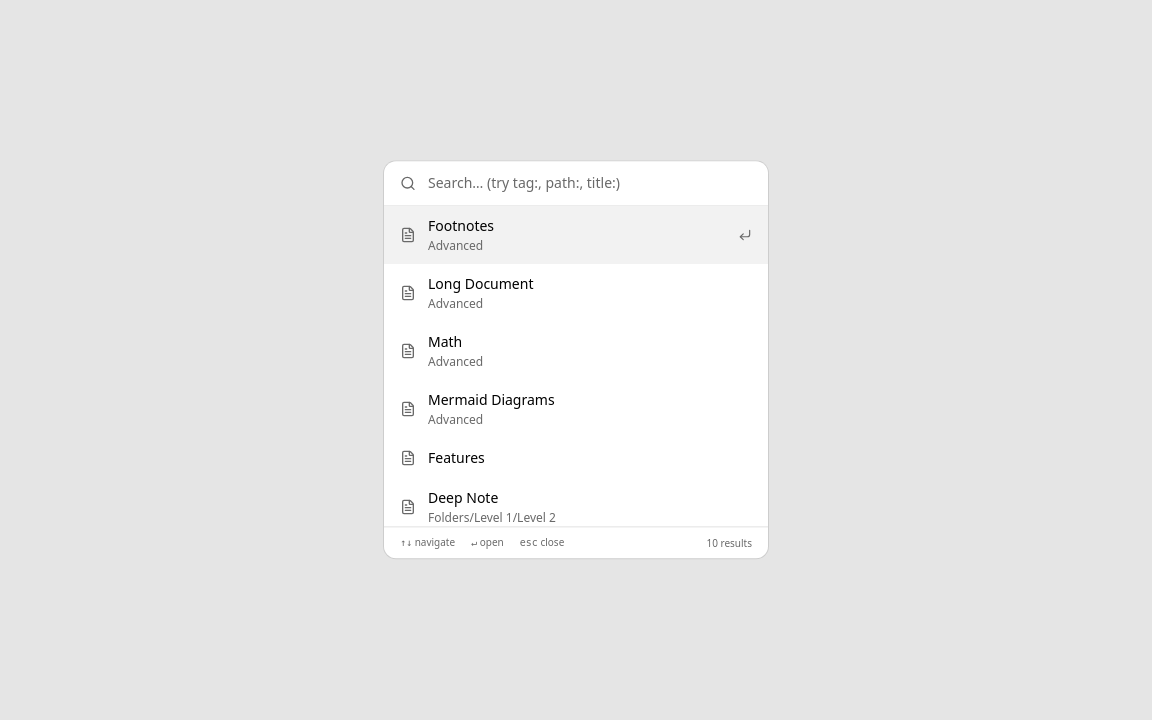
Test: SearchDialog › falls back to full-text search over plainText
// phrase that only appears in Hub Note's body, not in any title
In the field with placeholder "Search… (try tag:, path:, title:)": coordinates (590, 183) [428,173,752,193], type "degree centrality"
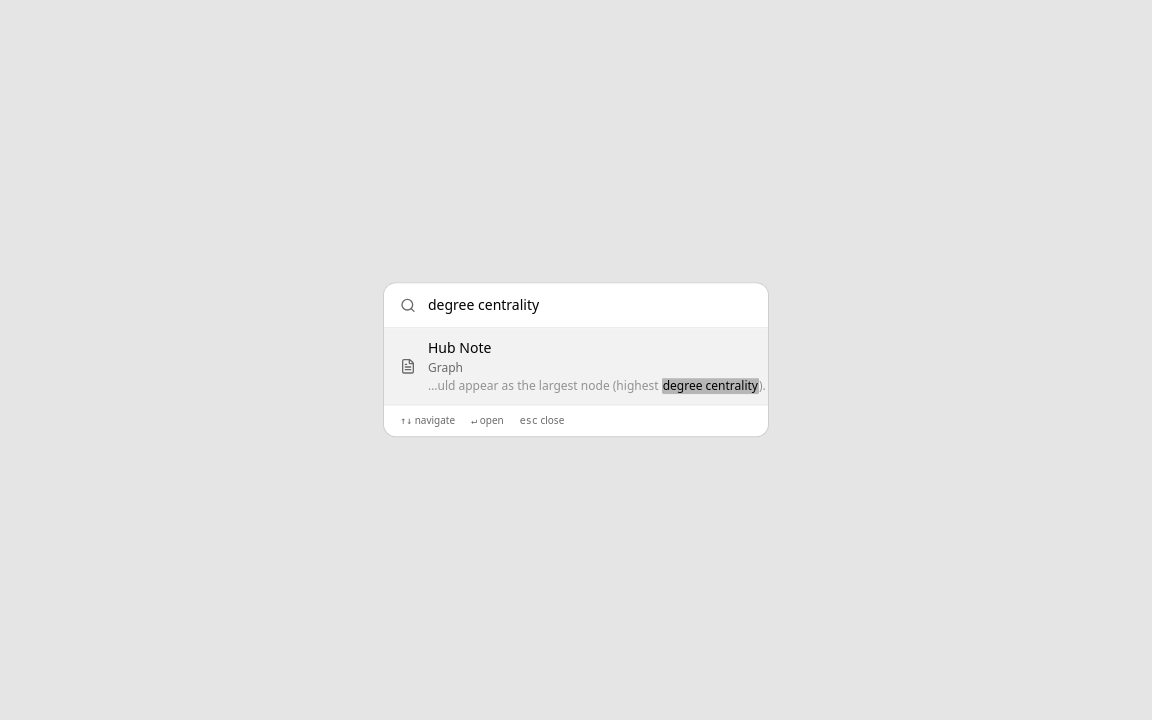
Now the text "Hub Note" is shown, box [428,338,491,357]
